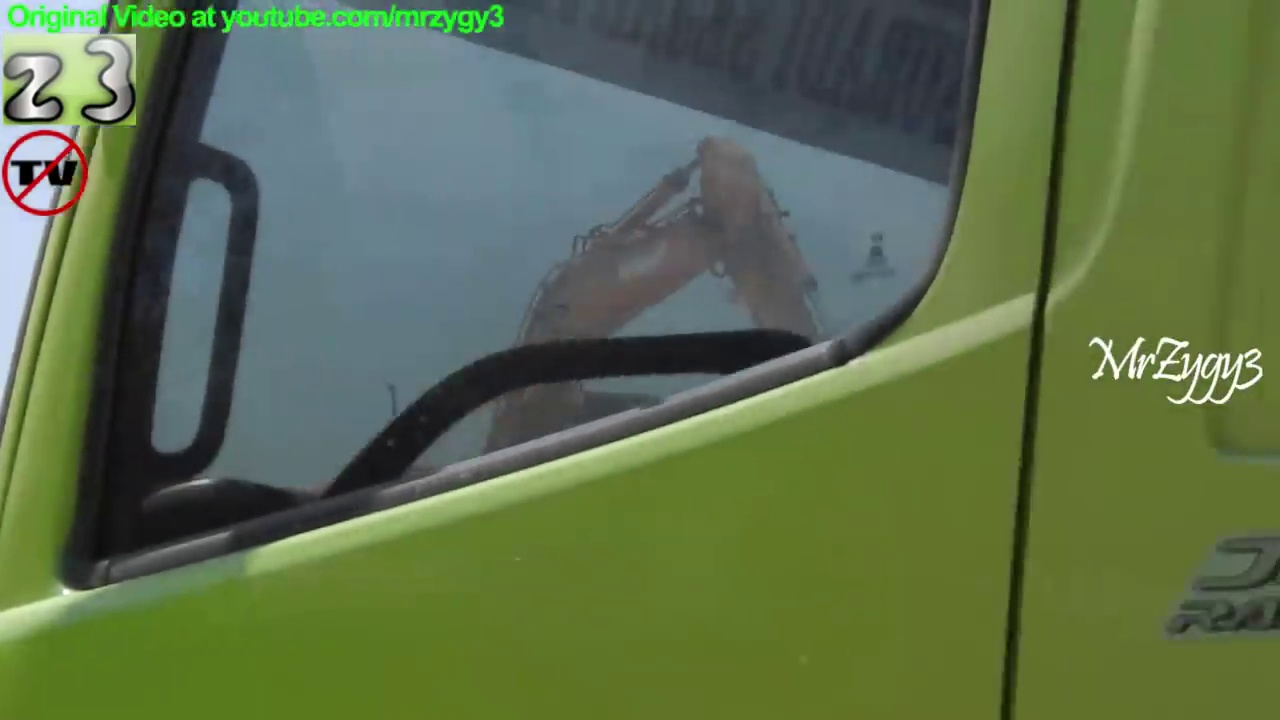excavator: (237, 114, 906, 712)
truck: (1, 1, 1280, 720)
